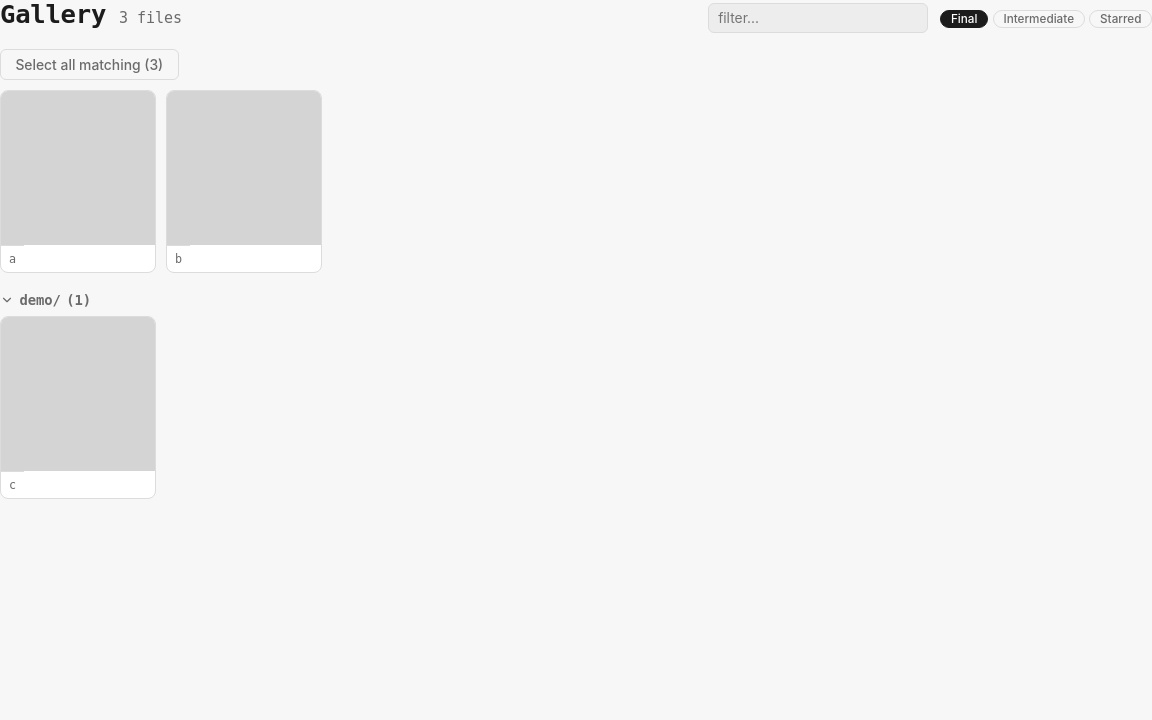
it: drops deleted files from the grid and the selection
What coordinates should you click on to do the following:
click the checkbox named "select a.png"
I would click on:
 (78, 181)
Its box is [0, 90, 156, 273].
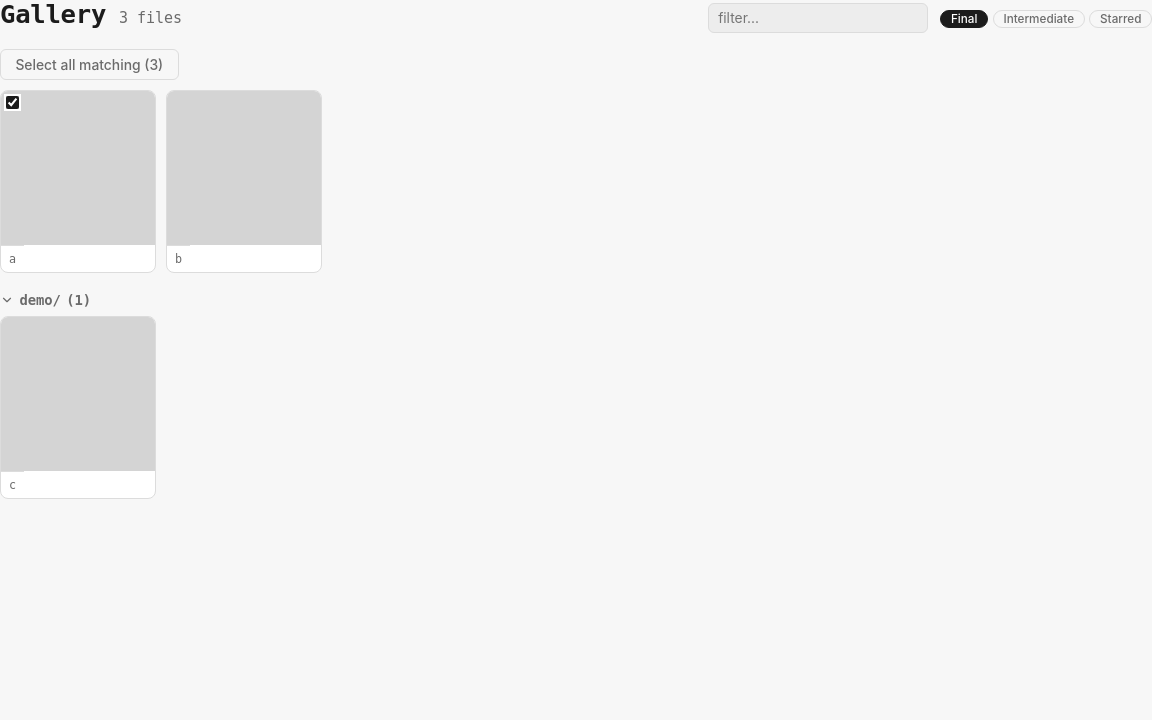
What coordinates should you click on to do the following:
click the checkbox named "select b.png"
I would click on:
 (244, 181)
Its box is [166, 90, 322, 273].
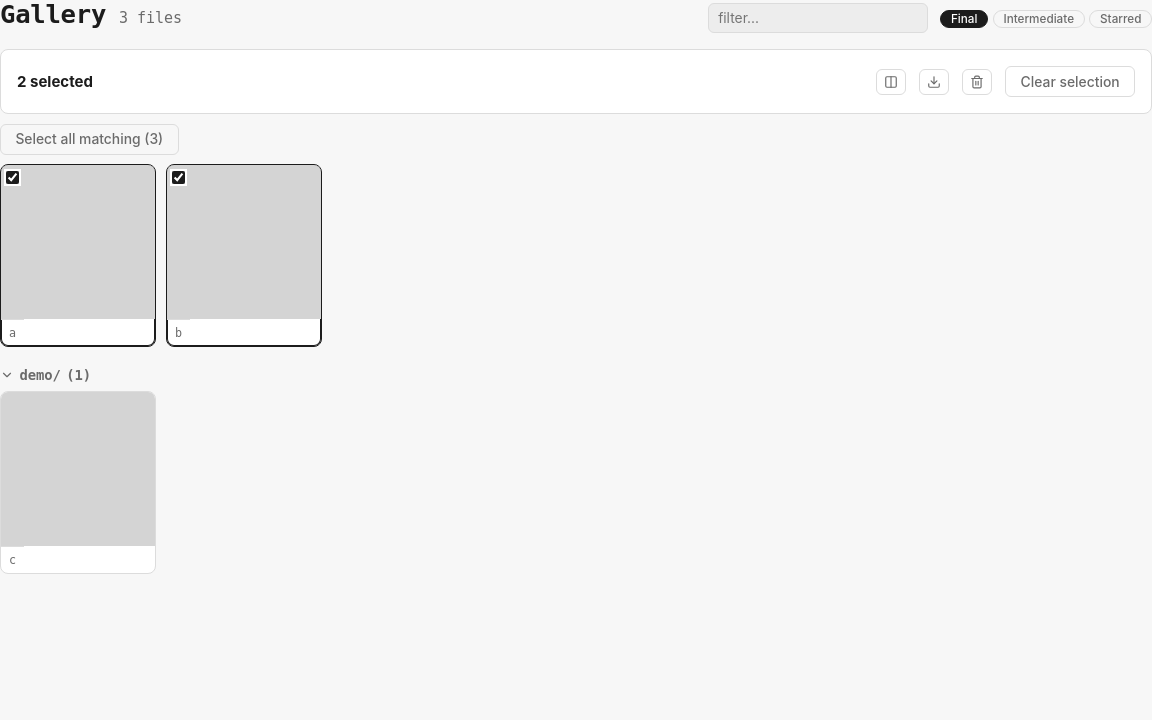
Check: the text "2 selected" is shown, box [17, 70, 93, 94]
What coordinates should you click on to do the following:
click the button named "delete"
I would click on:
 (977, 82)
Its box is [962, 69, 992, 95].
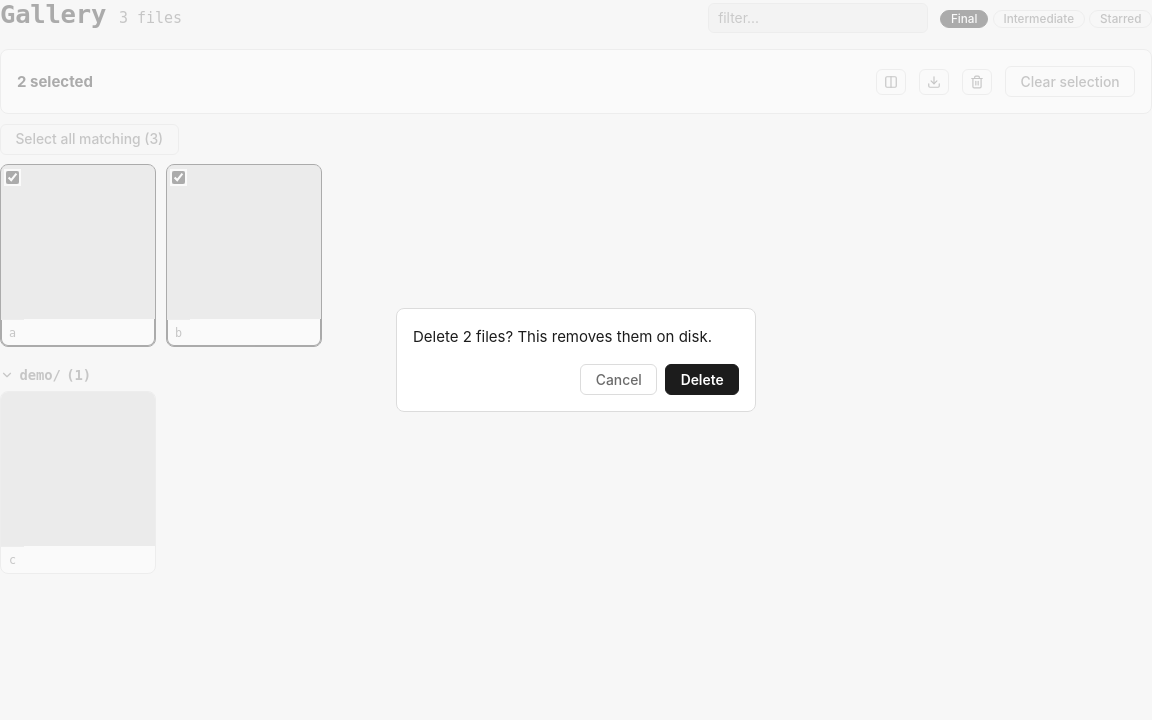
What coordinates should you click on to do the following:
click the button "Delete"
I would click on:
 (702, 380)
Its box is [665, 364, 739, 395].
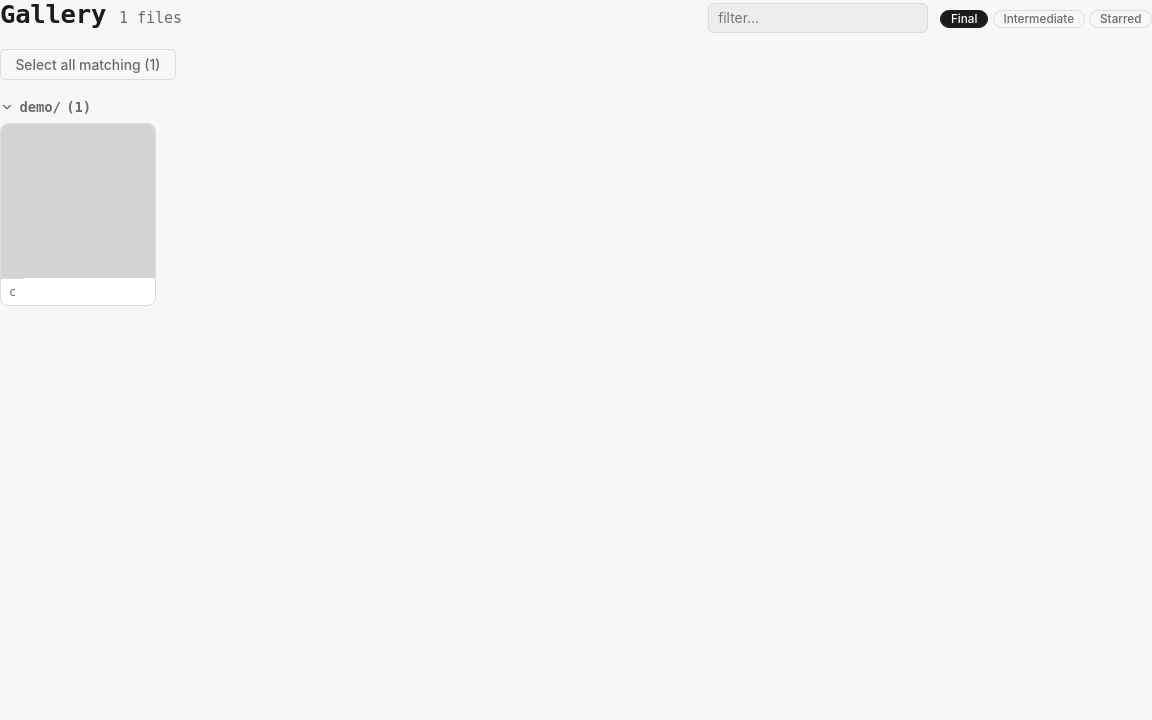
Check: the text "selected" is gone
